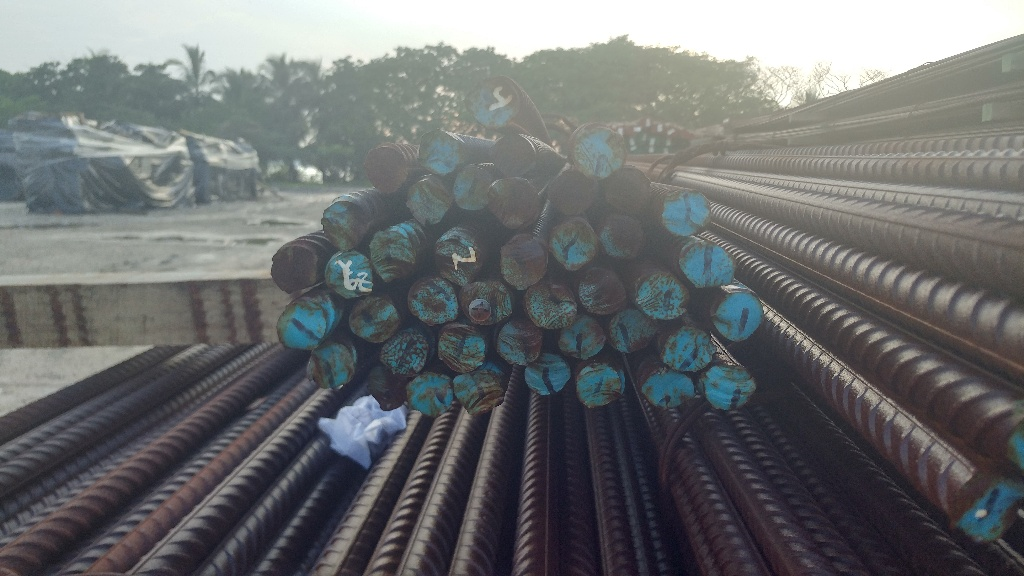dipstick: (575, 127, 628, 181), (466, 74, 520, 127), (489, 176, 541, 230), (662, 325, 717, 373), (500, 232, 546, 289), (712, 291, 764, 341), (436, 323, 486, 374), (636, 274, 690, 320), (681, 243, 735, 288), (412, 278, 461, 327), (606, 165, 654, 215), (549, 219, 597, 269), (548, 167, 599, 214), (662, 189, 711, 237), (555, 313, 605, 360), (326, 250, 373, 300), (460, 279, 511, 325), (269, 247, 320, 293), (702, 365, 755, 409), (369, 230, 413, 283), (578, 268, 626, 316), (306, 342, 354, 390), (527, 282, 577, 328), (320, 201, 366, 251), (276, 303, 324, 350), (433, 240, 483, 285), (639, 370, 695, 409), (599, 216, 647, 261), (453, 372, 502, 416), (405, 180, 451, 226), (379, 331, 428, 374), (606, 308, 656, 350), (489, 134, 536, 178), (575, 365, 623, 408), (350, 299, 398, 342), (364, 145, 406, 194), (498, 319, 543, 364), (407, 375, 454, 417), (452, 164, 494, 210), (525, 353, 570, 395), (418, 129, 459, 175), (370, 363, 407, 411)
